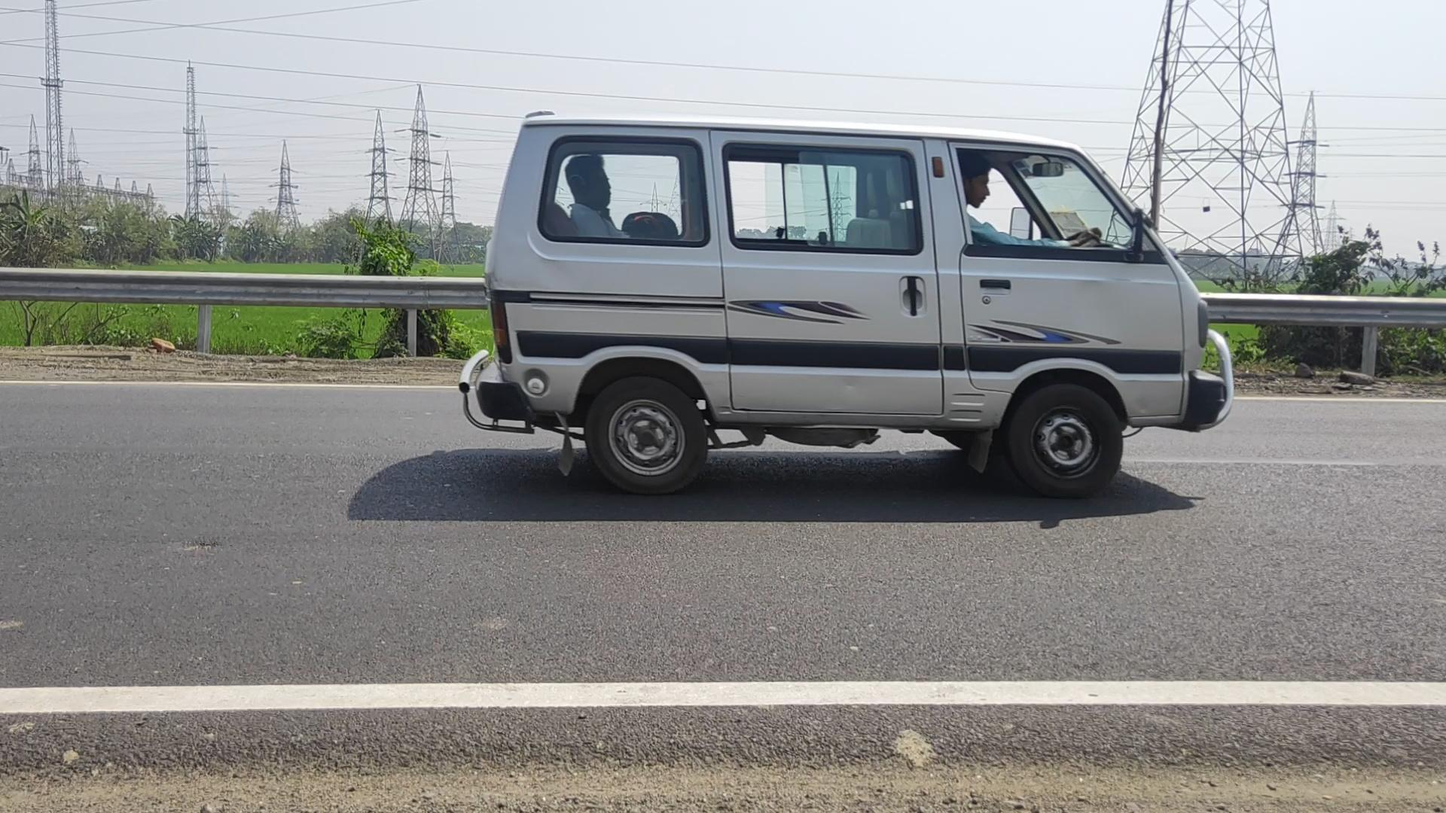van: (459, 111, 1233, 502)
